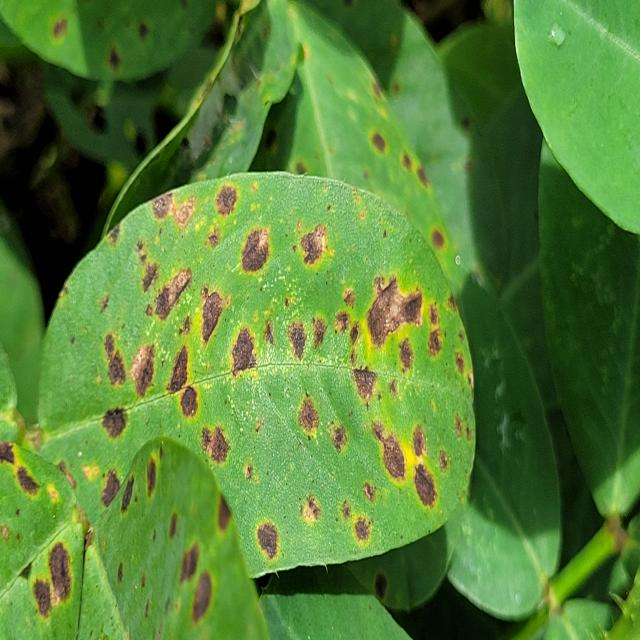Ground nut_tikka leaf spot: (41, 170, 477, 582)
